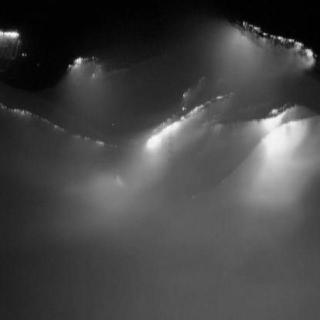Fire: (233, 17, 317, 64), (67, 56, 105, 88), (0, 28, 22, 58)
